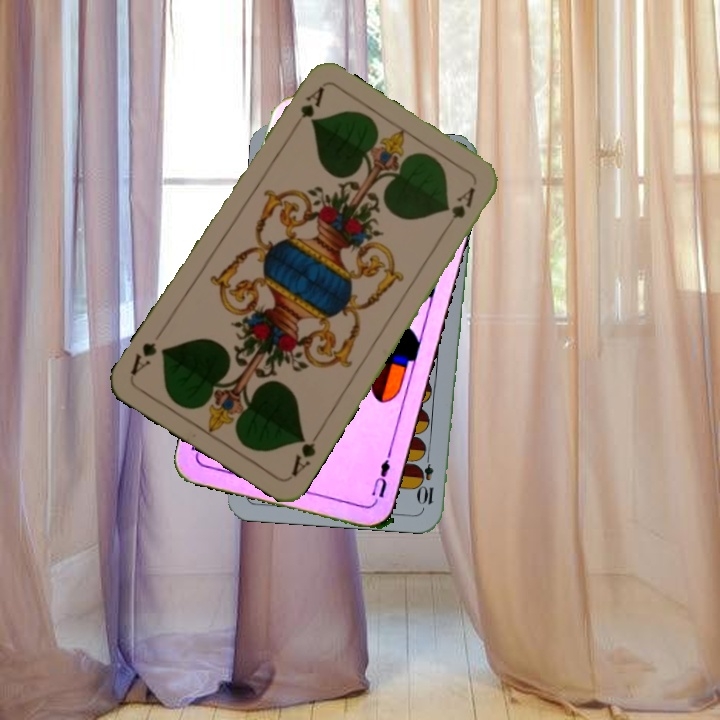E10: (417, 448, 437, 507)
EU: (367, 447, 394, 501)
GA: (287, 83, 327, 134), (287, 426, 324, 479)
